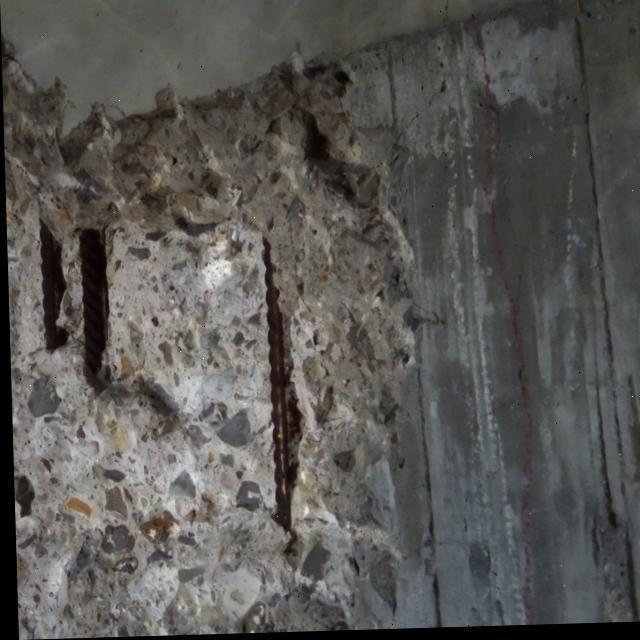D0w0: (26, 53, 422, 601), (262, 250, 299, 529), (82, 230, 108, 381), (42, 226, 65, 353)
